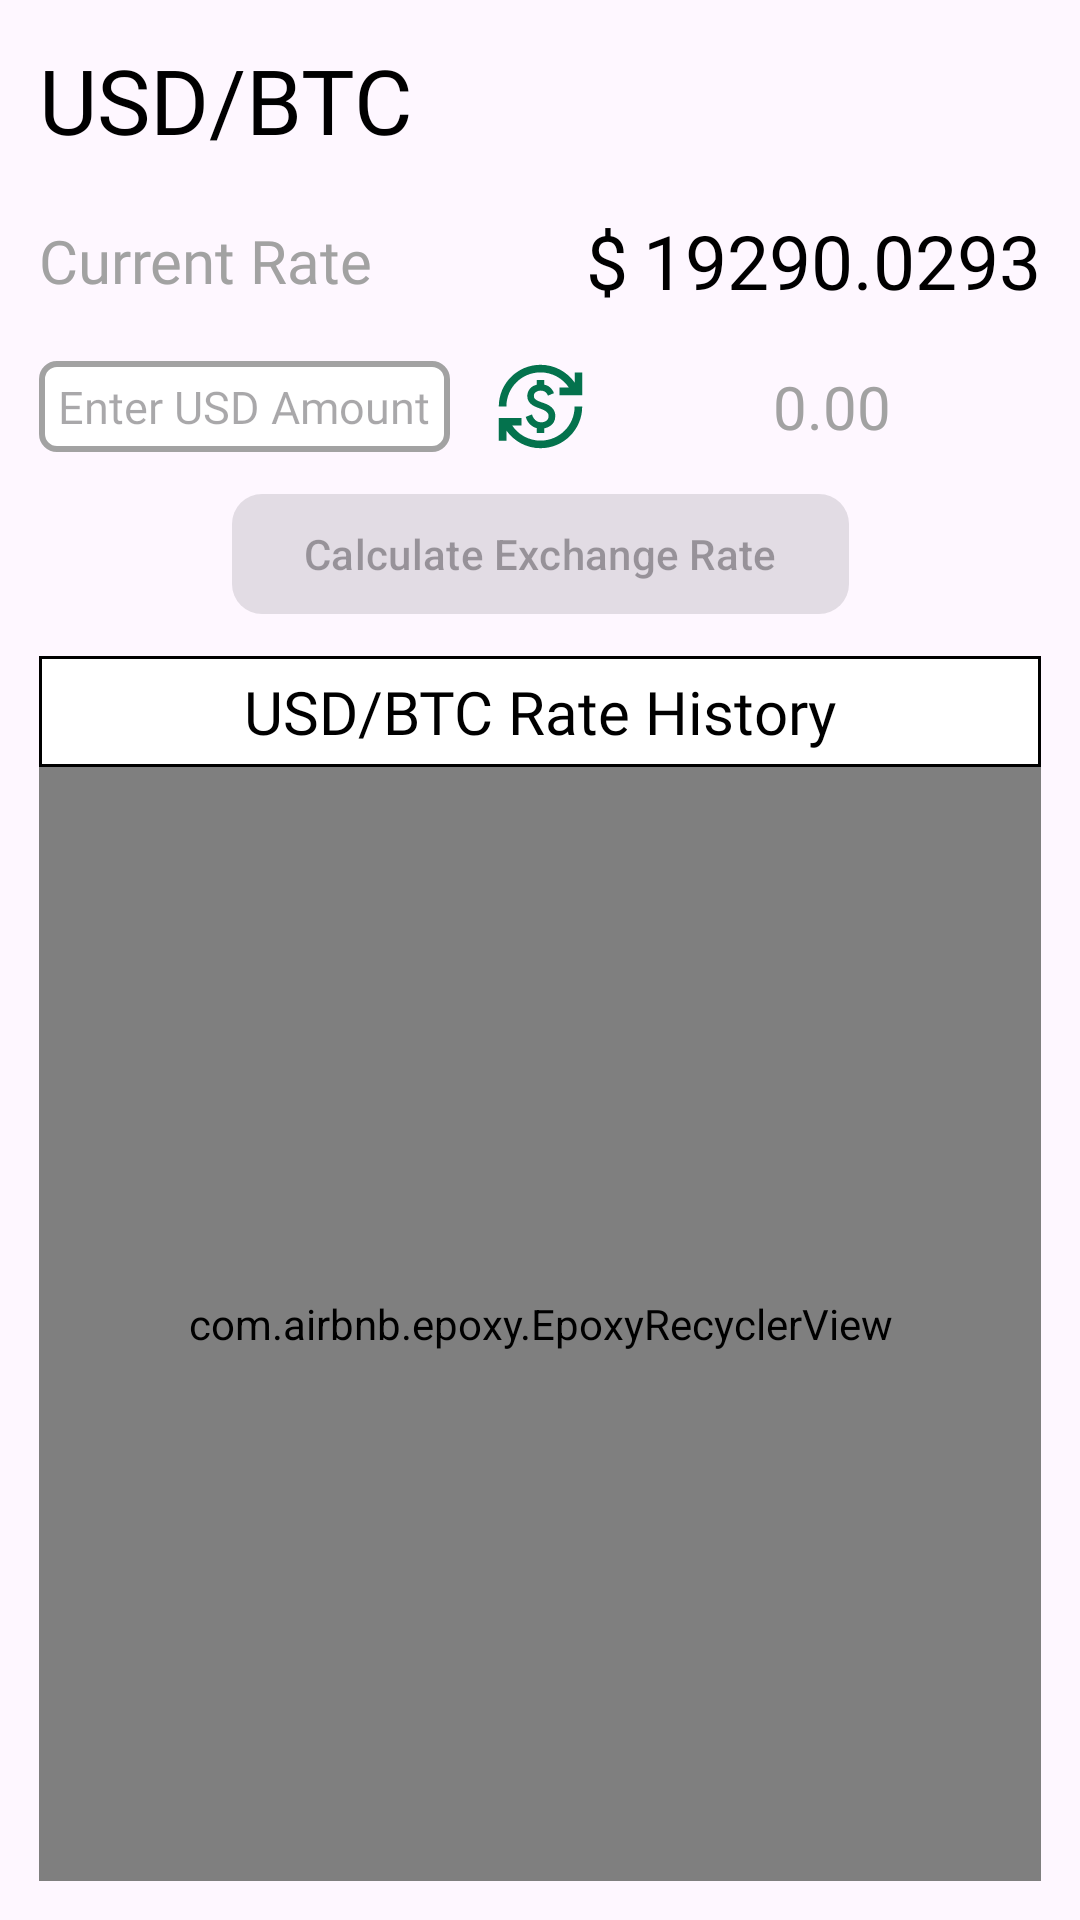

Icons on this 1080w x 1920h Android screen, each with its box as (x1, y1, x2, y2):
currency exchange: (498, 364, 583, 449)
